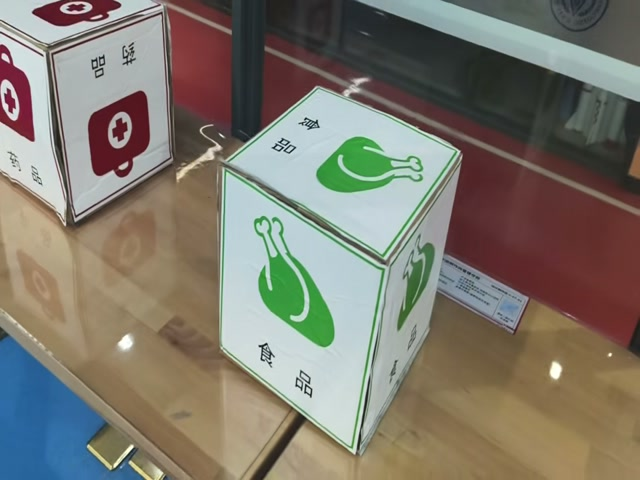Cube_food: (220, 83, 461, 271)
Cube_medicine: (0, 1, 168, 52)
